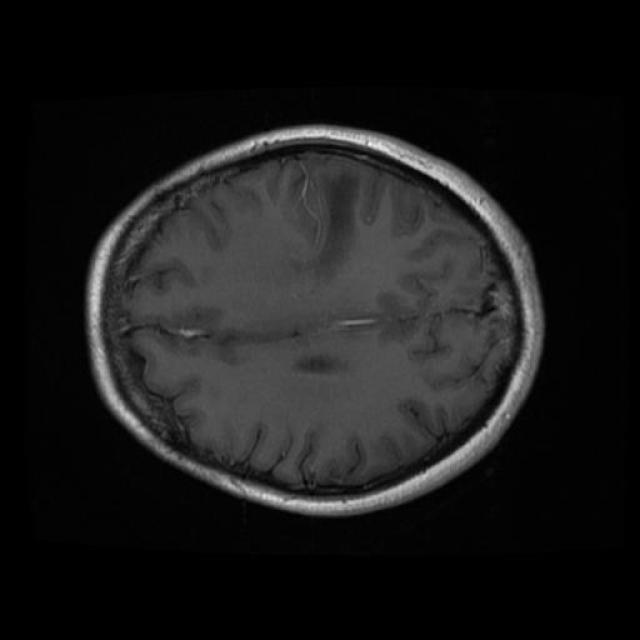Glioma: (318, 168, 358, 276)
